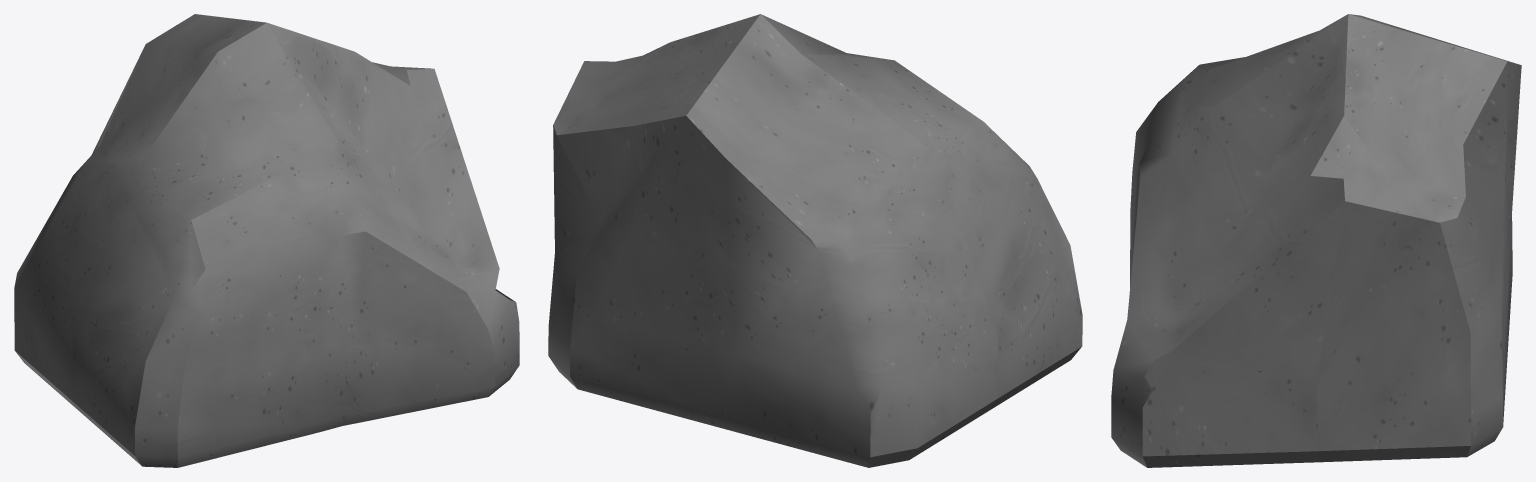
File: Gray_Rock_03.fbx
3 views of the same model, side by side, from view 1: azimuth 30°, elevation 25°; view 2: azimuth 150°, elevation 25°; view 3: azimuth 270°, elevation 25° (orthographic). The views are drawn at different scales.
Parts seen in each view (by area): view 1: Gray_Rock_03; view 2: Gray_Rock_03; view 3: Gray_Rock_03.
Part boxes in pixels (x1=…): Gray_Rock_03: x1=14, y1=14, x2=519, y2=467; Gray_Rock_03: x1=548, y1=14, x2=1082, y2=467; Gray_Rock_03: x1=1111, y1=14, x2=1521, y2=467.
Bounding box in the file's own units: 1.48 × 1.23 × 1.23.
